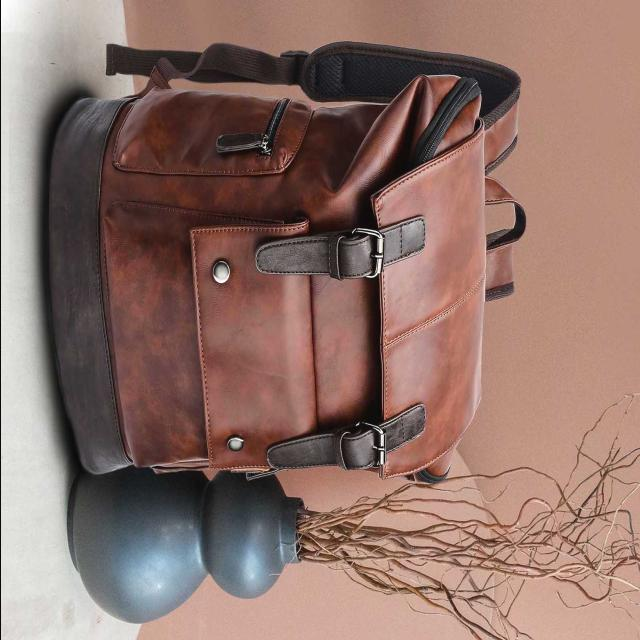backpack: (47, 42, 527, 486)
